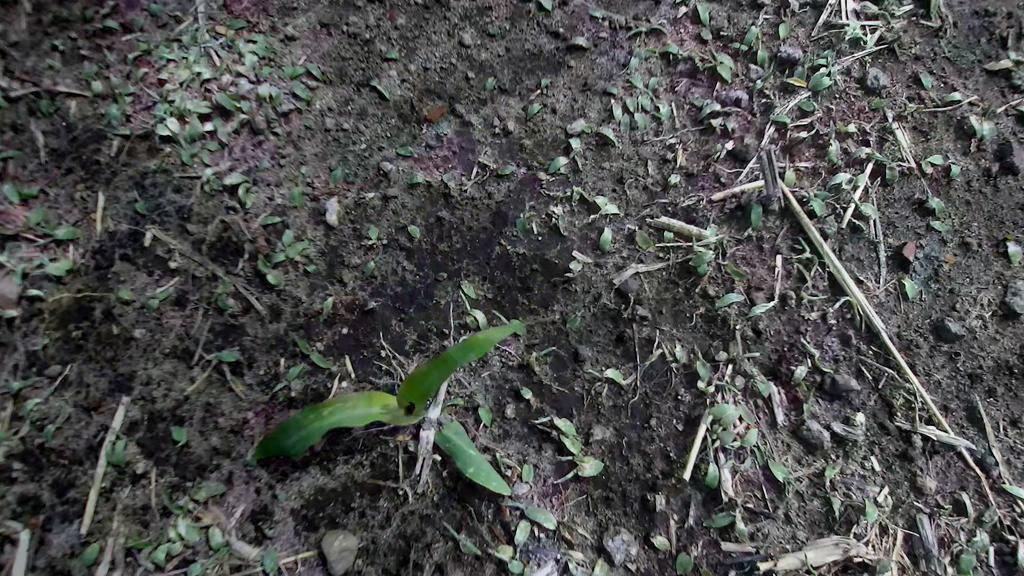BroWeed: (149, 484, 213, 548), (497, 491, 562, 532), (439, 511, 483, 564), (286, 327, 333, 374), (700, 501, 754, 539), (784, 234, 827, 280), (218, 163, 262, 207), (698, 371, 742, 413), (455, 286, 492, 333), (247, 251, 288, 292), (528, 409, 583, 439), (147, 533, 188, 572), (831, 293, 872, 331), (269, 357, 307, 398), (10, 393, 41, 443), (550, 458, 607, 485), (972, 501, 1001, 554), (741, 4, 774, 49), (699, 45, 737, 84), (38, 402, 73, 444), (504, 516, 536, 561), (724, 424, 764, 459), (161, 71, 202, 105), (190, 474, 228, 510), (795, 49, 830, 88), (493, 304, 532, 339), (268, 237, 312, 268), (122, 535, 158, 572), (583, 117, 623, 150), (809, 61, 845, 97), (176, 44, 211, 81), (695, 100, 751, 123), (793, 258, 823, 300), (74, 60, 106, 99), (816, 452, 847, 492), (878, 152, 912, 188), (627, 225, 664, 258), (802, 341, 834, 379), (147, 104, 185, 135), (761, 458, 800, 488), (556, 427, 590, 461), (145, 115, 180, 147), (798, 185, 830, 220), (626, 70, 662, 101), (108, 90, 145, 120), (104, 72, 142, 101), (915, 187, 949, 219), (195, 160, 225, 196), (0, 158, 22, 207), (75, 537, 106, 571), (34, 253, 69, 283), (206, 37, 241, 67), (714, 402, 744, 437), (200, 516, 228, 553), (746, 65, 774, 102), (218, 13, 249, 46), (803, 59, 836, 90), (700, 398, 733, 429), (546, 200, 574, 236), (823, 117, 843, 167), (224, 58, 261, 85), (10, 253, 42, 284), (778, 160, 809, 192), (174, 22, 207, 52), (586, 362, 627, 386), (196, 60, 231, 88), (266, 83, 296, 115), (472, 392, 497, 430), (165, 60, 195, 91), (165, 140, 198, 168), (34, 222, 82, 241), (510, 376, 540, 406), (183, 107, 207, 144), (732, 394, 758, 428), (622, 22, 671, 40), (19, 200, 48, 230), (286, 78, 317, 106), (678, 44, 709, 72), (720, 258, 752, 285), (705, 432, 720, 489), (911, 59, 936, 93), (211, 87, 240, 116), (742, 297, 780, 319), (780, 66, 812, 92), (686, 246, 719, 271), (788, 121, 822, 145), (366, 74, 395, 102), (209, 110, 232, 145), (248, 106, 269, 144), (148, 38, 176, 66), (397, 213, 425, 241), (254, 97, 281, 126), (818, 36, 847, 63), (648, 98, 677, 125), (567, 557, 608, 576), (843, 142, 874, 167), (358, 252, 385, 280), (645, 530, 675, 555), (822, 168, 856, 190), (183, 137, 222, 156), (958, 539, 978, 576), (207, 345, 242, 366), (227, 88, 254, 115), (146, 132, 174, 158), (712, 289, 745, 311), (631, 31, 653, 64), (33, 91, 58, 120), (695, 2, 713, 42), (722, 455, 754, 477), (111, 431, 130, 468), (568, 135, 587, 172), (641, 42, 682, 59), (840, 171, 870, 194), (695, 346, 711, 389), (290, 61, 324, 81), (316, 292, 336, 326), (231, 70, 257, 96), (227, 109, 251, 137), (155, 90, 178, 119), (236, 40, 258, 70), (671, 549, 695, 576), (685, 89, 713, 112), (145, 285, 177, 305), (861, 493, 881, 525), (966, 110, 986, 142), (151, 78, 180, 100), (596, 225, 617, 255), (182, 97, 215, 116), (843, 17, 868, 42), (16, 181, 43, 204), (705, 50, 736, 70), (790, 358, 808, 392), (923, 214, 952, 235), (241, 41, 273, 60), (561, 256, 585, 281), (633, 110, 650, 145), (720, 111, 742, 138), (588, 202, 621, 220), (578, 189, 609, 208), (899, 273, 920, 301), (240, 29, 269, 49), (257, 210, 289, 228), (854, 198, 880, 220), (442, 170, 459, 203), (117, 283, 140, 307), (585, 1, 609, 24), (458, 277, 479, 303), (868, 147, 895, 167), (980, 118, 999, 146), (126, 63, 149, 86), (80, 1, 102, 25), (90, 16, 123, 32), (166, 425, 188, 449), (930, 90, 963, 106), (829, 493, 847, 522), (375, 44, 402, 63), (196, 147, 219, 169), (164, 4, 188, 25), (867, 93, 895, 111), (326, 160, 344, 188), (634, 92, 655, 116), (792, 51, 809, 80), (252, 155, 274, 177), (251, 62, 274, 83), (215, 71, 236, 94), (772, 108, 795, 129), (122, 48, 146, 68), (503, 556, 527, 576), (778, 7, 792, 41), (111, 125, 147, 138), (217, 146, 235, 172), (287, 160, 305, 186), (263, 544, 278, 575), (983, 57, 1016, 71), (717, 138, 737, 161), (807, 305, 834, 322), (0, 221, 24, 240), (256, 80, 274, 105), (712, 429, 737, 447), (867, 172, 884, 198), (290, 185, 307, 211), (148, 101, 169, 122), (3, 376, 24, 397), (32, 331, 52, 353), (193, 45, 213, 67), (900, 100, 922, 120), (562, 310, 584, 330), (620, 94, 642, 114), (800, 291, 829, 306), (78, 45, 105, 61), (751, 200, 763, 236), (502, 395, 519, 420), (206, 173, 227, 193), (162, 525, 182, 546), (39, 55, 65, 71), (802, 386, 815, 418), (496, 160, 519, 178), (706, 115, 724, 138), (645, 70, 662, 94), (514, 207, 529, 234), (693, 557, 714, 576), (133, 198, 151, 220), (214, 291, 232, 313), (144, 55, 167, 72), (565, 34, 591, 49), (394, 143, 420, 158), (164, 50, 188, 66), (602, 84, 626, 100), (557, 455, 595, 465), (917, 157, 936, 177), (21, 286, 48, 300), (103, 439, 117, 466), (107, 103, 122, 128), (186, 559, 208, 576), (463, 311, 480, 333), (626, 54, 642, 77), (173, 93, 187, 119), (50, 35, 69, 54), (756, 380, 774, 400), (301, 259, 321, 277), (174, 130, 191, 151), (268, 117, 285, 138), (526, 350, 540, 375), (752, 444, 767, 467), (170, 41, 188, 60), (664, 171, 682, 190), (756, 37, 766, 71), (675, 339, 689, 363), (86, 57, 104, 75), (290, 94, 309, 111), (926, 152, 949, 166), (528, 86, 548, 102), (214, 276, 230, 296), (475, 153, 496, 168), (611, 101, 624, 125), (366, 223, 380, 245), (710, 140, 724, 162), (211, 20, 229, 37), (200, 117, 217, 135), (694, 261, 712, 278), (56, 255, 75, 271), (160, 59, 179, 75), (242, 190, 257, 210), (679, 193, 699, 208), (1010, 71, 1024, 92), (836, 121, 858, 134), (103, 45, 118, 64), (876, 556, 891, 575), (947, 162, 962, 181), (823, 49, 838, 68), (496, 544, 516, 558), (520, 463, 534, 483), (711, 77, 724, 98), (130, 16, 146, 33), (0, 149, 24, 160), (571, 183, 583, 205), (620, 113, 631, 137), (145, 298, 160, 315), (208, 94, 223, 111), (527, 103, 542, 120), (443, 396, 466, 407), (708, 226, 719, 249), (155, 69, 174, 82), (146, 2, 162, 17), (271, 98, 285, 115), (524, 559, 538, 576), (797, 99, 814, 113), (232, 36, 245, 54), (729, 40, 750, 51), (813, 190, 832, 202), (261, 127, 276, 142), (406, 175, 431, 184), (0, 307, 20, 318), (394, 431, 414, 442), (881, 0, 903, 10), (282, 228, 294, 246), (187, 75, 201, 90), (405, 439, 419, 454), (710, 421, 721, 440), (217, 543, 231, 557), (487, 21, 500, 36), (664, 135, 679, 148), (294, 254, 311, 265), (539, 77, 552, 91), (539, 0, 554, 12), (150, 157, 162, 171), (303, 118, 317, 130), (662, 229, 674, 243), (485, 76, 496, 91), (601, 14, 611, 30), (629, 115, 639, 131), (138, 41, 155, 50), (230, 97, 243, 108), (0, 90, 8, 107), (727, 389, 736, 403), (33, 108, 44, 119), (502, 19, 512, 31), (594, 199, 606, 209), (226, 126, 233, 142), (284, 64, 292, 78), (123, 95, 135, 104), (0, 250, 7, 262), (718, 176, 727, 184), (0, 431, 5, 444), (757, 0, 773, 4), (301, 166, 306, 174), (674, 0, 684, 3)
Maize: (248, 291, 549, 497)
